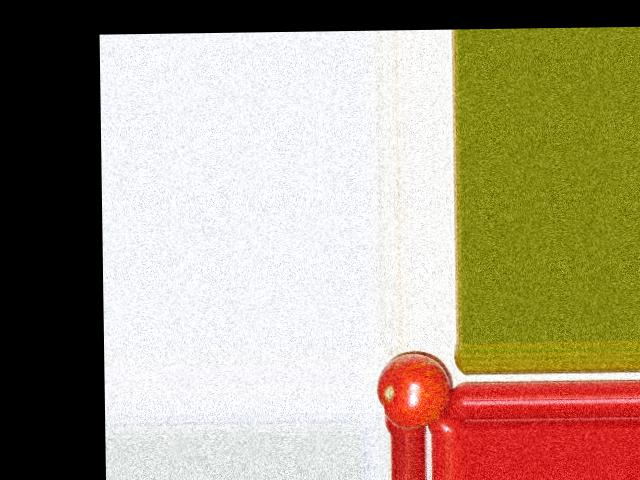tomato: (375, 352, 452, 429)
